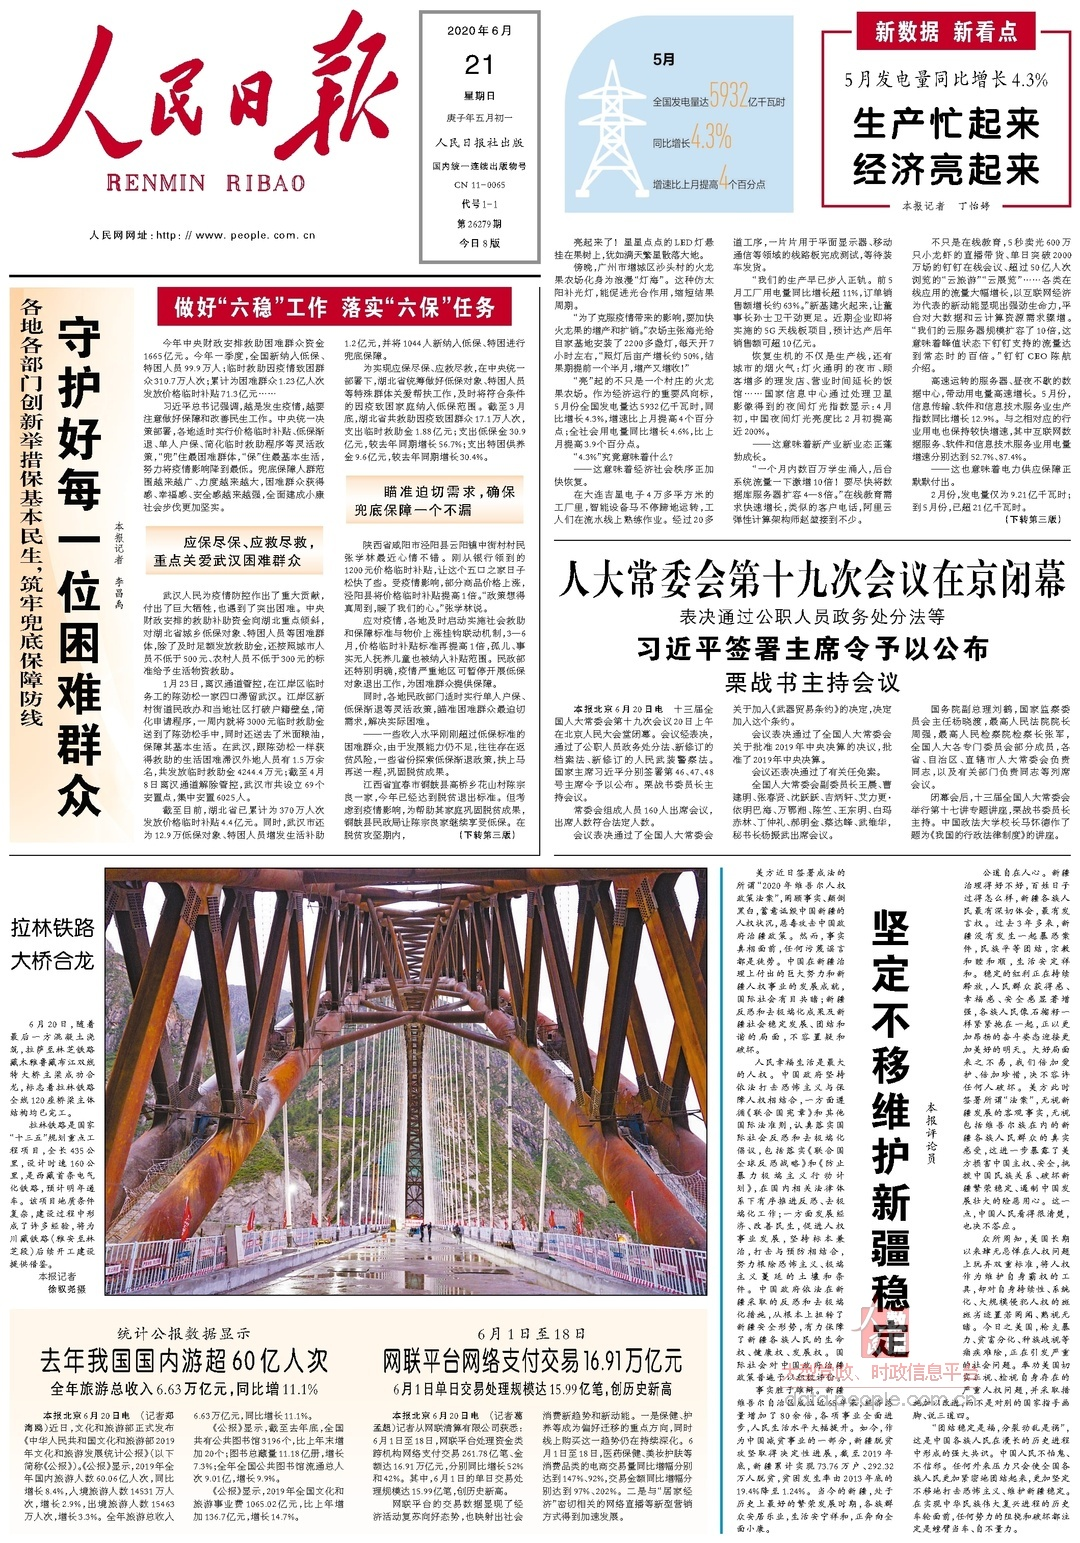pic: (100, 864, 715, 1301)
